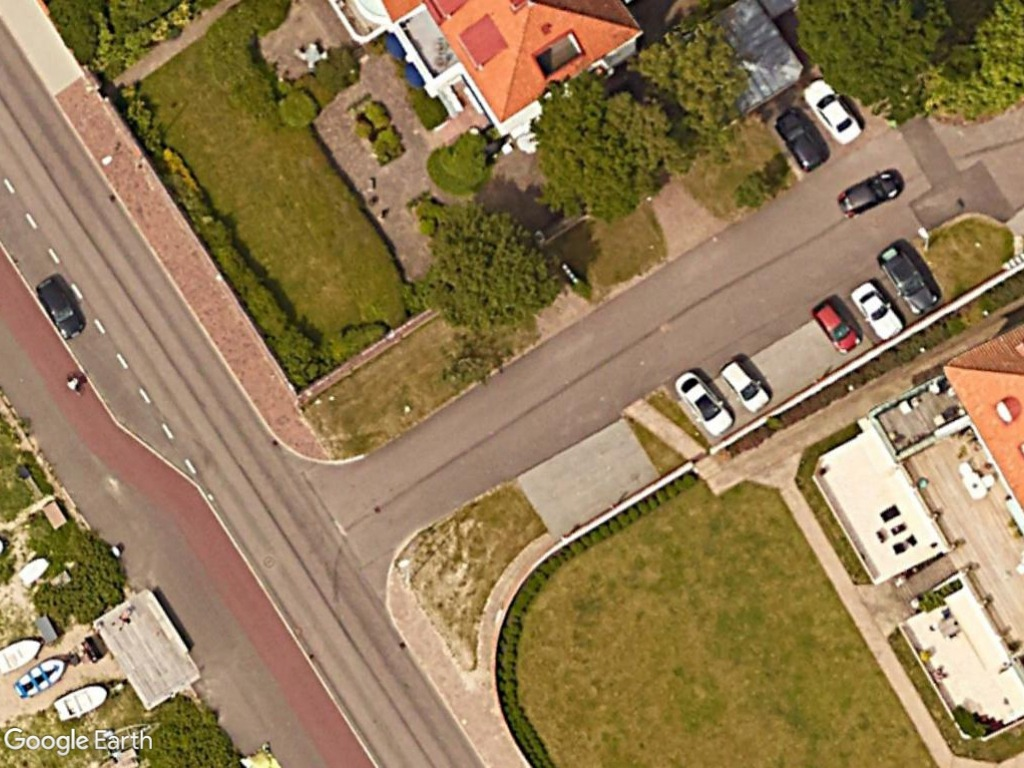boat: (8, 651, 73, 704), (49, 678, 111, 726)
car: (875, 236, 944, 320), (672, 365, 737, 439), (801, 76, 868, 147), (833, 167, 908, 221), (716, 351, 775, 418), (772, 103, 829, 172), (807, 295, 865, 359), (850, 276, 905, 343)
